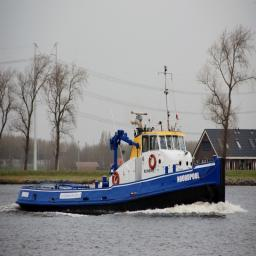tugboat: (15, 109, 229, 223)
